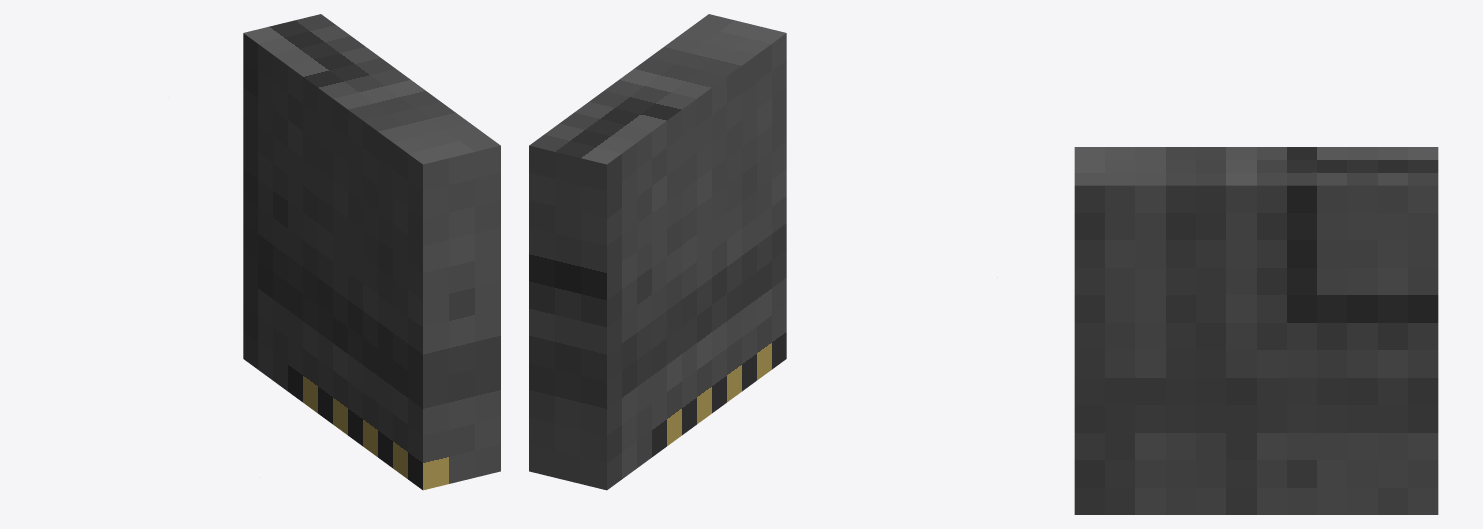
The model's file is electric_engine_moving_frame_5.obj.
3 renders of one model, left to right at view 1: azimuth 30°, elevation 25°; view 2: azimuth 150°, elevation 25°; view 3: azimuth 270°, elevation 25°, orthographic.
Visible parts, largest first — view 1: piston_10_0; view 2: piston_10_0; view 3: piston_10_0.
Boxes of the visible parts, left/top/right/bottom form: piston_10_0: left=243, top=14, right=500, bottom=490; piston_10_0: left=529, top=14, right=786, bottom=490; piston_10_0: left=1074, top=147, right=1438, bottom=514.
Size of the model in its own units: 0.7031 by 0.875 by 0.875.
